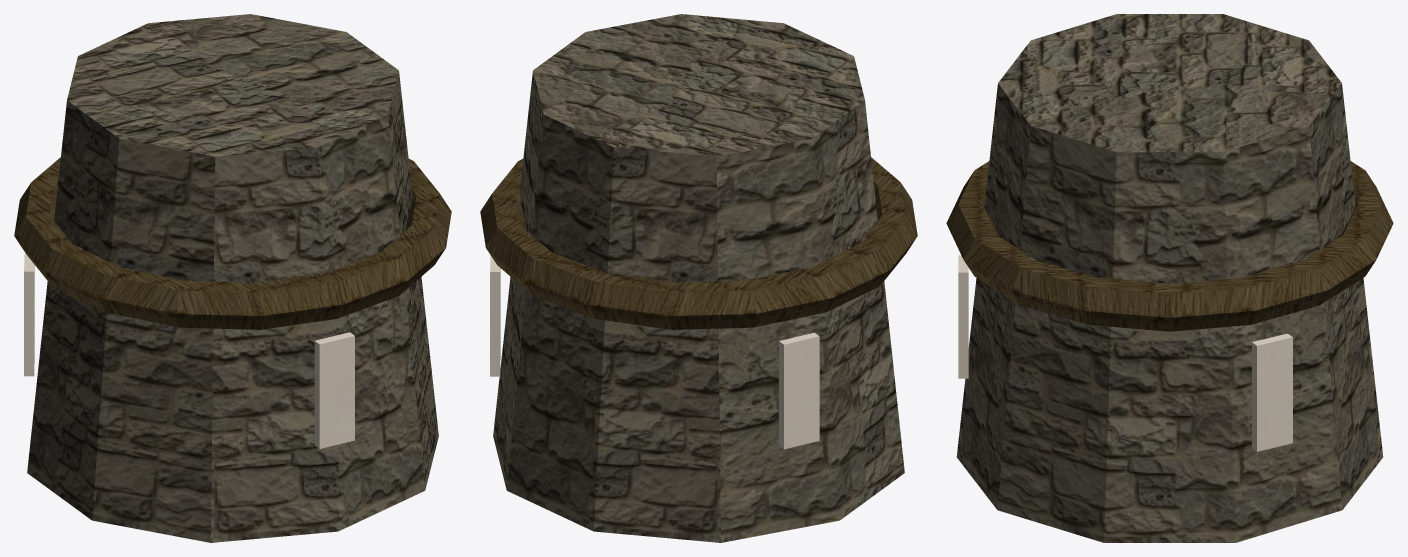
File: stormeye_knot_01.glb
3 views of the same model, side by side, from view 1: azimuth 30°, elevation 25°; view 2: azimuth 150°, elevation 25°; view 3: azimuth 270°, elevation 25° (orthographic).
Parts seen in each view (by area): view 1: stormeye_knot_01; view 2: stormeye_knot_01; view 3: stormeye_knot_01.
Boxes of the visible parts, left/top/right/bottom form: stormeye_knot_01: left=14, top=14, right=451, bottom=542; stormeye_knot_01: left=480, top=14, right=917, bottom=542; stormeye_knot_01: left=946, top=14, right=1393, bottom=542.
Bounding box in the file's own units: 1.3 × 1.2 × 1.3.
3 materials, 3 textured.
